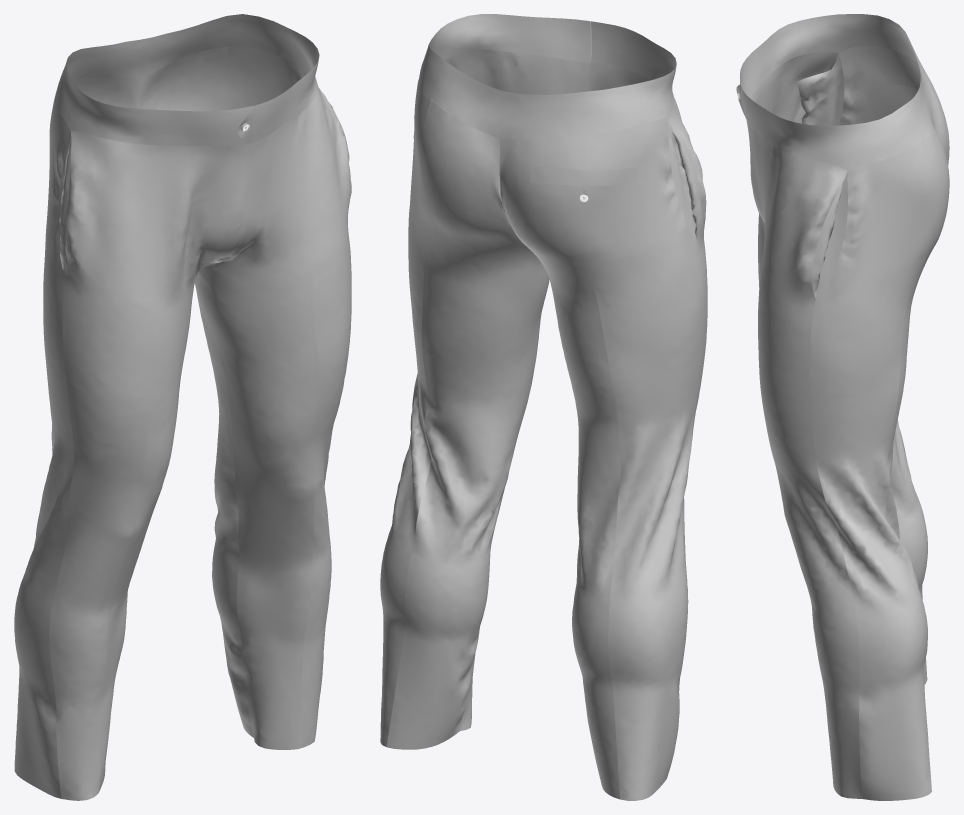
The model's file is trousers.obj.
The picture shows the model from 3 angles, left to right: view 1: azimuth 30°, elevation 25°; view 2: azimuth 150°, elevation 25°; view 3: azimuth 270°, elevation 25°; orthographic projection. The views are drawn at different scales.
Parts seen in each view (by area): view 1: Pattern_983058, Pattern_983062, Pattern_244737, Pattern_244740, Pattern_10642237, Pattern_10642236, Pattern_983059, Pattern_6822486; view 2: Pattern_244737, Pattern_244740, Pattern_10642237, Pattern_10642236, Pattern_983062, Pattern_983058, Pattern_244733, Pattern_6822485, Pattern_6822486, Pattern_983059; view 3: Pattern_244740, Pattern_983062, Pattern_244737, Pattern_10642236, Pattern_10642237, Pattern_983058, Pattern_6822485, Pattern_6822487, Pattern_6822488, Pattern_244733, Pattern_983059.
Part boxes in pixels (x1,y1,x2,y2): Pattern_983058: (49, 131, 248, 800); Pattern_983062: (197, 87, 351, 749); Pattern_244737: (14, 76, 143, 798); Pattern_244740: (138, 46, 306, 737); Pattern_10642237: (54, 37, 254, 145); Pattern_10642236: (143, 14, 319, 143); Pattern_983059: (230, 135, 268, 255); Pattern_6822486: (59, 132, 71, 269); Pattern_244737: (499, 119, 703, 800); Pattern_244740: (380, 83, 541, 749); Pattern_10642237: (500, 21, 676, 139); Pattern_10642236: (418, 14, 592, 138); Pattern_983062: (445, 49, 568, 730); Pattern_983058: (588, 63, 707, 695); Pattern_244733: (530, 166, 638, 186); Pattern_6822485: (668, 121, 696, 238); Pattern_6822486: (668, 120, 701, 239); Pattern_983059: (564, 59, 590, 93); Pattern_244740: (809, 123, 949, 800); Pattern_983062: (753, 131, 862, 798); Pattern_244737: (838, 46, 949, 684); Pattern_10642236: (736, 82, 933, 170); Pattern_10642237: (739, 14, 932, 120); Pattern_983058: (746, 51, 837, 286); Pattern_6822485: (797, 53, 844, 125); Pattern_6822487: (816, 171, 847, 297); Pattern_6822488: (812, 181, 843, 297); Pattern_244733: (886, 84, 947, 129); Pattern_983059: (747, 122, 763, 220).
Bounding box in the file's own units: 380 × 891 × 255.
